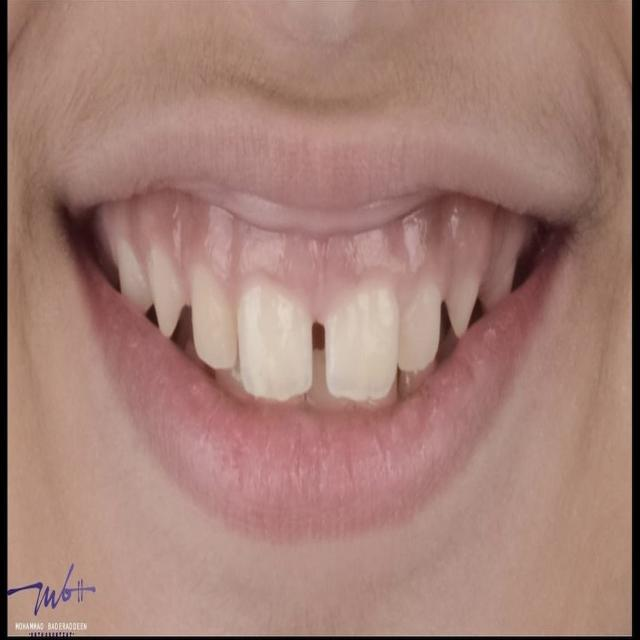tooth: (242, 278, 318, 412), (328, 297, 404, 393), (187, 272, 237, 370), (398, 278, 446, 368), (112, 250, 150, 315), (152, 261, 182, 333), (450, 269, 477, 336)
